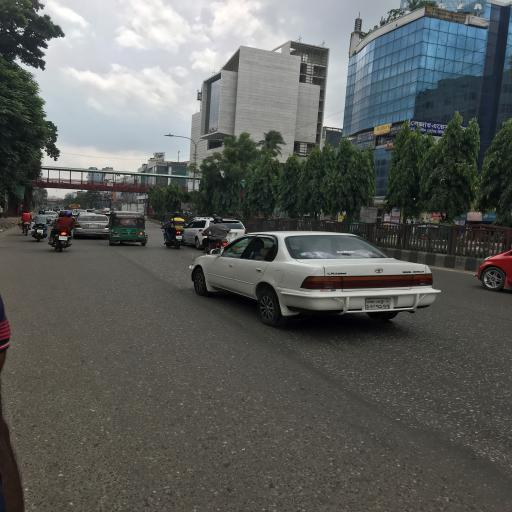bicycle: (21, 223, 34, 241)
bus: (65, 205, 82, 212)
car: (189, 232, 443, 329), (185, 218, 250, 250), (76, 215, 110, 239), (46, 212, 59, 221)
minivan: (72, 210, 88, 217)
motorbike: (202, 218, 232, 255), (159, 223, 188, 250), (48, 224, 74, 254), (29, 222, 52, 244)
three wheelers (CNG): (109, 212, 149, 247)
